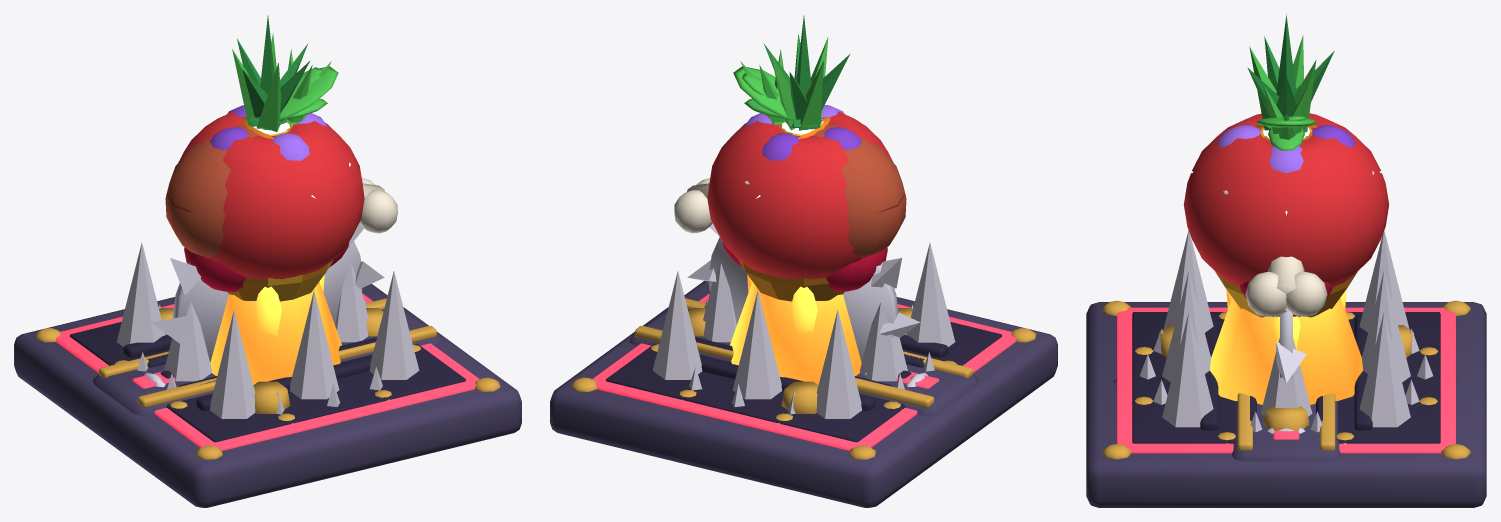
The model's file is props.glb.
3 views of the same model, side by side, from view 1: azimuth 30°, elevation 25°; view 2: azimuth 150°, elevation 25°; view 3: azimuth 270°, elevation 25° (orthographic). The views are drawn at different scales.
Parts seen in each view (by area): view 1: SpikeTrap, Apple, SpikeTrapSpikes, Meat, FireTrapFlame, Pineapple, SawTrap, SawTrapBlade, Grapes, FireTrap, Cherries, TeslaTrap (+2 smaller); view 2: SpikeTrap, Apple, SpikeTrapSpikes, Meat, FireTrapFlame, Pineapple, SawTrap, SawTrapBlade, Grapes, FireTrap, Cherries, TeslaTrap (+2 smaller); view 3: SpikeTrap, Apple, SpikeTrapSpikes, FireTrapFlame, SawTrap, Pineapple, Meat, FireTrap, Grapes, TeslaTrap, SawTrapBlade, Carrot (+3 smaller).
Part boxes in pixels (<box>): SpikeTrap: <box>14,284,521,507</box>; Apple: <box>178,67,364,279</box>; SpikeTrapSpikes: <box>116,242,419,418</box>; Meat: <box>165,124,397,258</box>; FireTrapFlame: <box>210,274,341,384</box>; Pineapple: <box>227,15,333,301</box>; SawTrap: <box>93,298,442,415</box>; SawTrapBlade: <box>151,223,384,362</box>; Grapes: <box>210,66,338,160</box>; FireTrap: <box>115,335,420,423</box>; Cherries: <box>184,99,349,291</box>; TeslaTrap: <box>159,308,383,421</box>; SpikeTrap: <box>550,281,1057,507</box>; Apple: <box>707,73,893,279</box>; SpikeTrapSpikes: <box>652,242,955,418</box>; Meat: <box>674,124,906,258</box>; FireTrapFlame: <box>730,274,861,384</box>; Pineapple: <box>738,15,849,301</box>; SawTrap: <box>629,298,978,415</box>; SawTrapBlade: <box>687,223,920,374</box>; Grapes: <box>733,66,861,160</box>; FireTrap: <box>651,335,956,423</box>; Cherries: <box>722,99,887,291</box>; TeslaTrap: <box>688,308,912,421</box>; SpikeTrap: <box>1086,300,1486,507</box>; Apple: <box>1183,113,1389,286</box>; SpikeTrapSpikes: <box>1162,230,1410,427</box>; FireTrapFlame: <box>1209,289,1363,404</box>; SawTrap: <box>1232,393,1340,461</box>; Pineapple: <box>1215,14,1357,317</box>; Meat: <box>1245,256,1327,316</box>; FireTrap: <box>1131,312,1441,443</box>; Grapes: <box>1217,117,1355,173</box>; TeslaTrap: <box>1113,325,1459,430</box>; SawTrapBlade: <box>1276,310,1306,382</box>; Carrot: <box>1255,86,1317,139</box>.
Bounding box in the file's own units: 0.78 × 0.9276 × 0.78.
